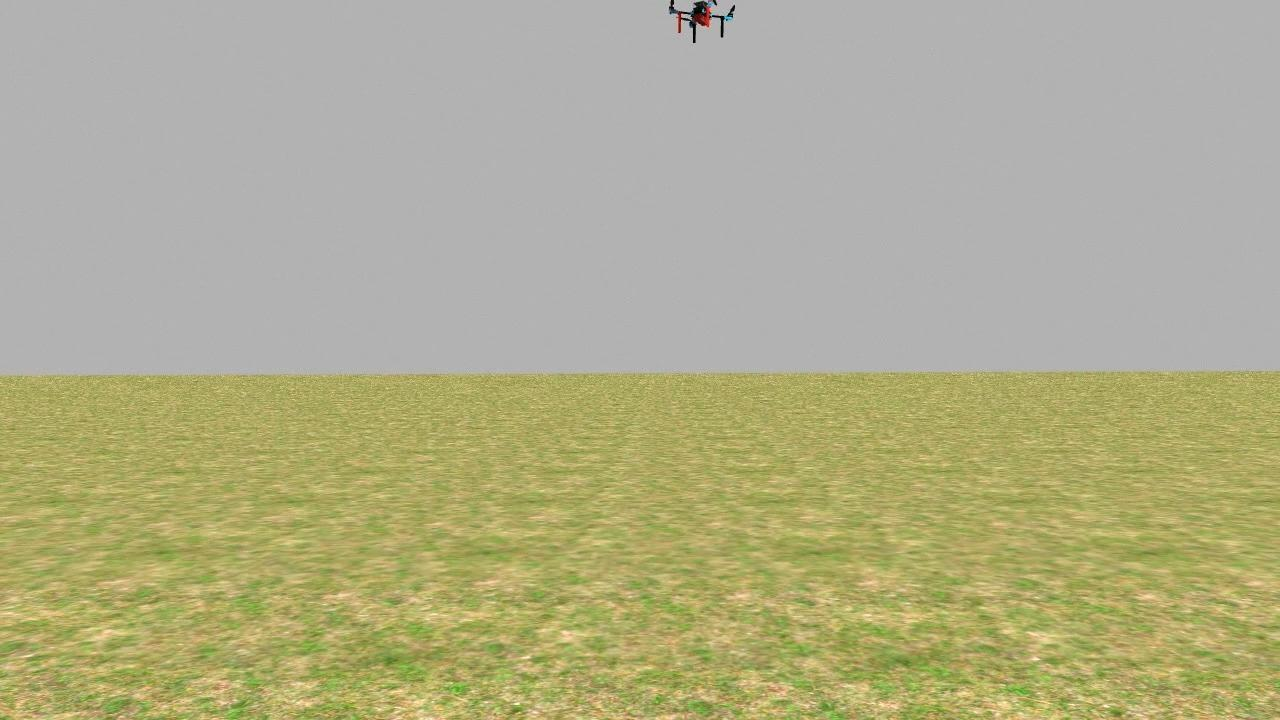UAV: (661, 0, 748, 50)
